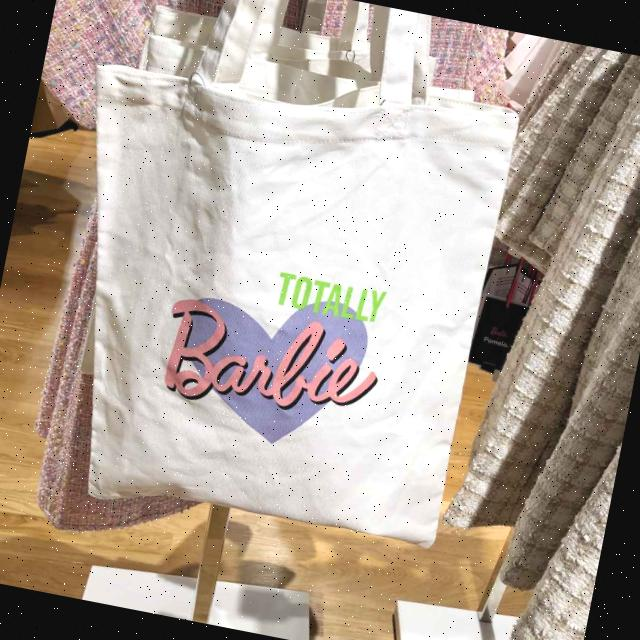Handbag: (10, 0, 535, 569)
